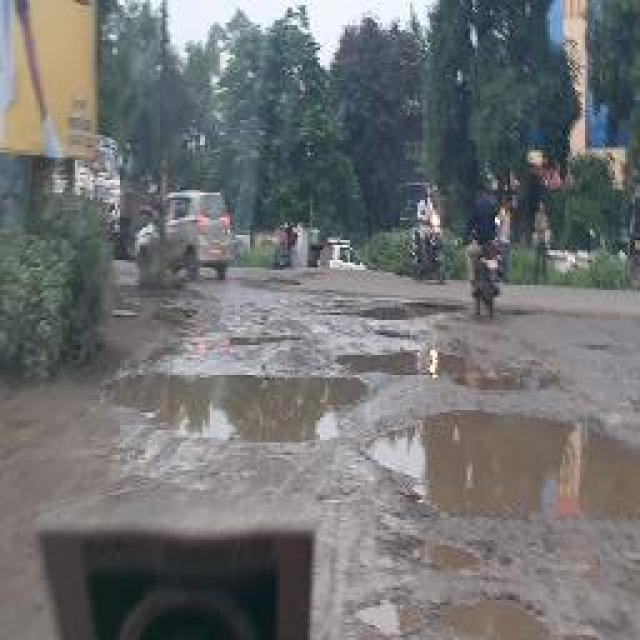stagnation: (372, 411, 634, 521), (113, 364, 351, 440), (372, 339, 545, 394)
